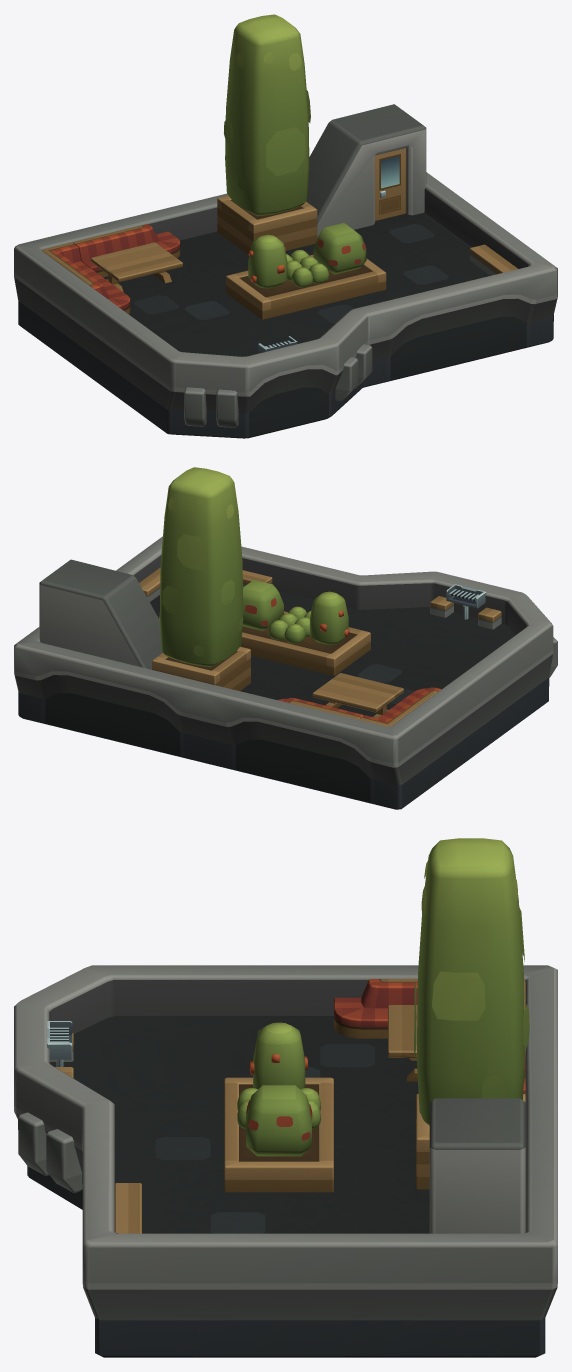
The model's file is appartment_type2_roof_type1_flat_cream_deco.fbx.
3 views of the same model, one above another, from view 1: azimuth 30°, elevation 25°; view 2: azimuth 150°, elevation 25°; view 3: azimuth 270°, elevation 25° (orthographic). The views are drawn at different scales.
Parts seen in each view (by area): view 1: appartment_type2_roof_type1_flat_cream_deco, door_wood_rooftop_doorway; view 2: appartment_type2_roof_type1_flat_cream_deco; view 3: appartment_type2_roof_type1_flat_cream_deco.
Part boxes in pixels (x1,y1,x2,y2): appartment_type2_roof_type1_flat_cream_deco: (14,14,557,438); door_wood_rooftop_doorway: (374,148,406,221); appartment_type2_roof_type1_flat_cream_deco: (14,467,557,809); appartment_type2_roof_type1_flat_cream_deco: (14,838,557,1357).
Size of the model in its own units: 1210 by 790 by 992.
